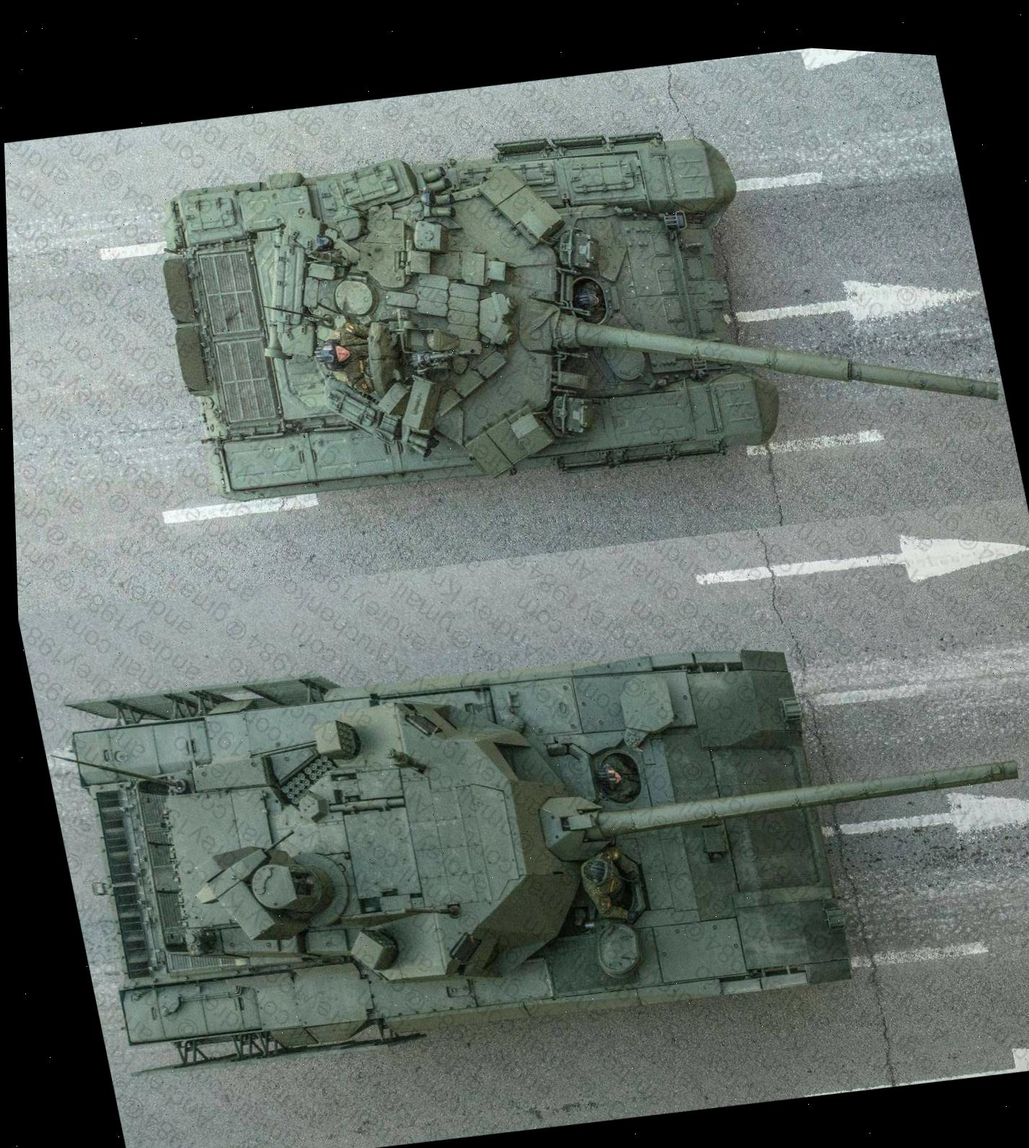tank: (43, 547, 1029, 1143), (133, 29, 1011, 559)
